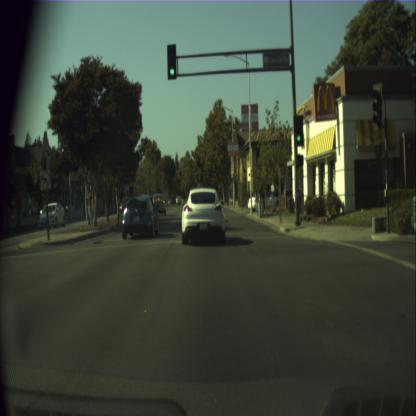Green: (166, 43, 176, 80), (294, 116, 303, 146), (195, 166, 197, 175), (218, 181, 220, 187)
Red: (178, 169, 180, 175), (218, 188, 220, 194)
